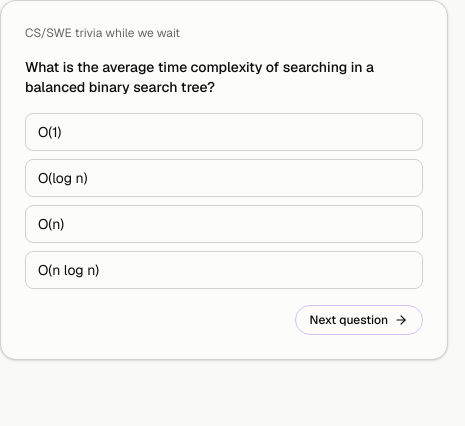
Scenario: TriviaQuiz › selecting a wrong answer still scores it and reveals the explanation
The width and height of the screenshot is (465, 426).
Click the button "O(1)".
click(50, 132)  # box [25,113,423,151]
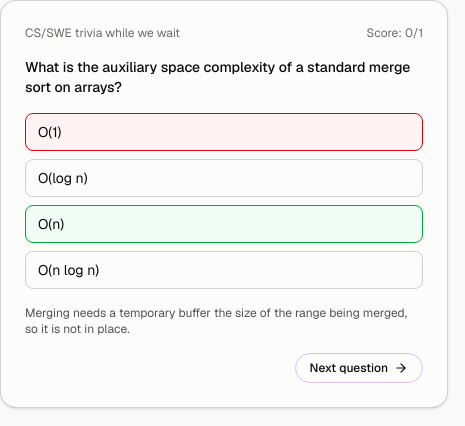
expect the text "Score: 0/1" is shown: met, box [366,25,423,41]
